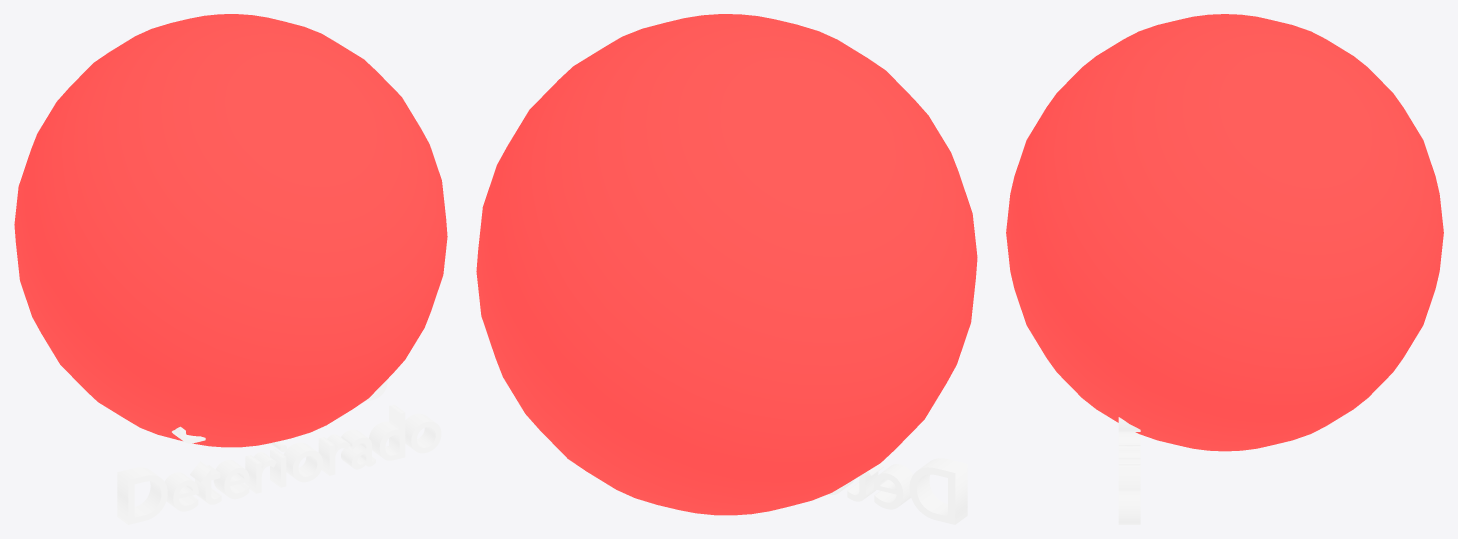
File: disco-de-freio-deteriorado.glb
3 views of the same model, side by side, from view 1: azimuth 30°, elevation 25°; view 2: azimuth 150°, elevation 25°; view 3: azimuth 270°, elevation 25° (orthographic). The views are drawn at different scales.
Parts seen in each view (by area): view 1: Sphere.024, Text.025; view 2: Sphere.024, Text.025; view 3: Sphere.024, Text.025.
Boxes of the visible parts, <box> form: Sphere.024: <box>14,14,447,447</box>; Text.025: <box>117,379,441,524</box>; Sphere.024: <box>476,14,977,515</box>; Text.025: <box>828,458,967,524</box>; Sphere.024: <box>1006,14,1443,451</box>; Text.025: <box>1118,417,1140,524</box>.
Bounding box in the file's own units: 5.15 × 5.43 × 5.15.
